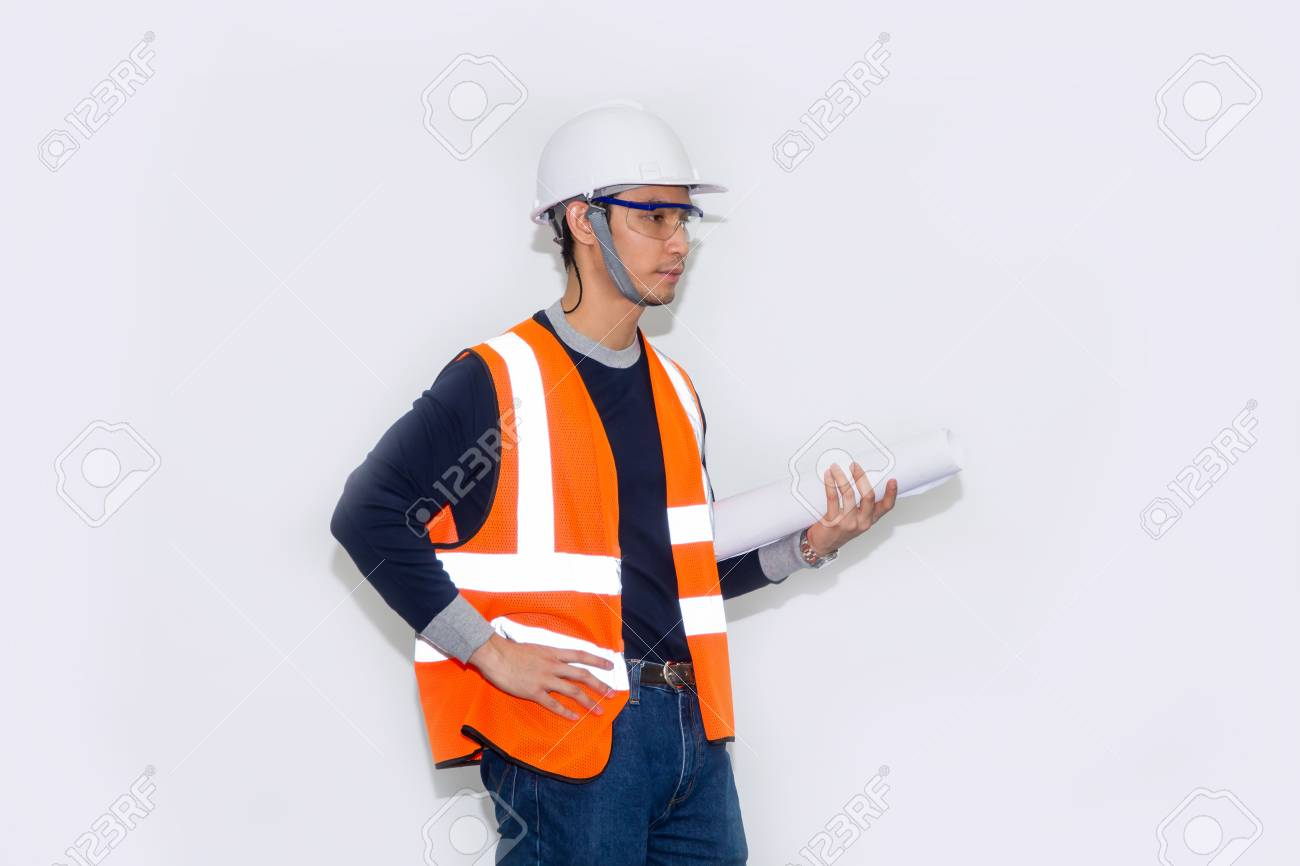Person_wearing_helmet: (513, 93, 720, 232)
